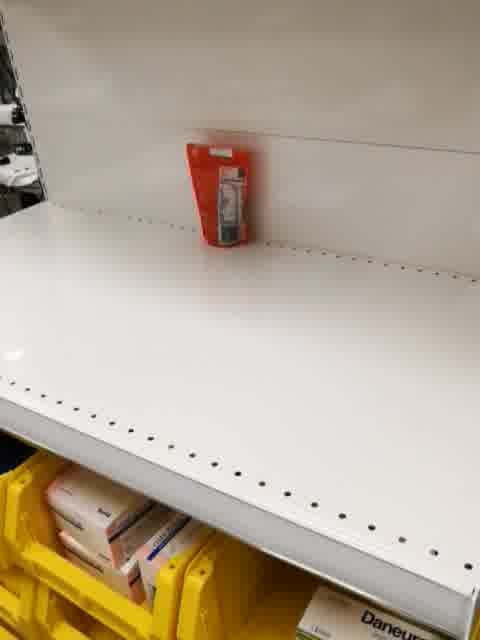whitechia: (184, 142, 256, 250)
